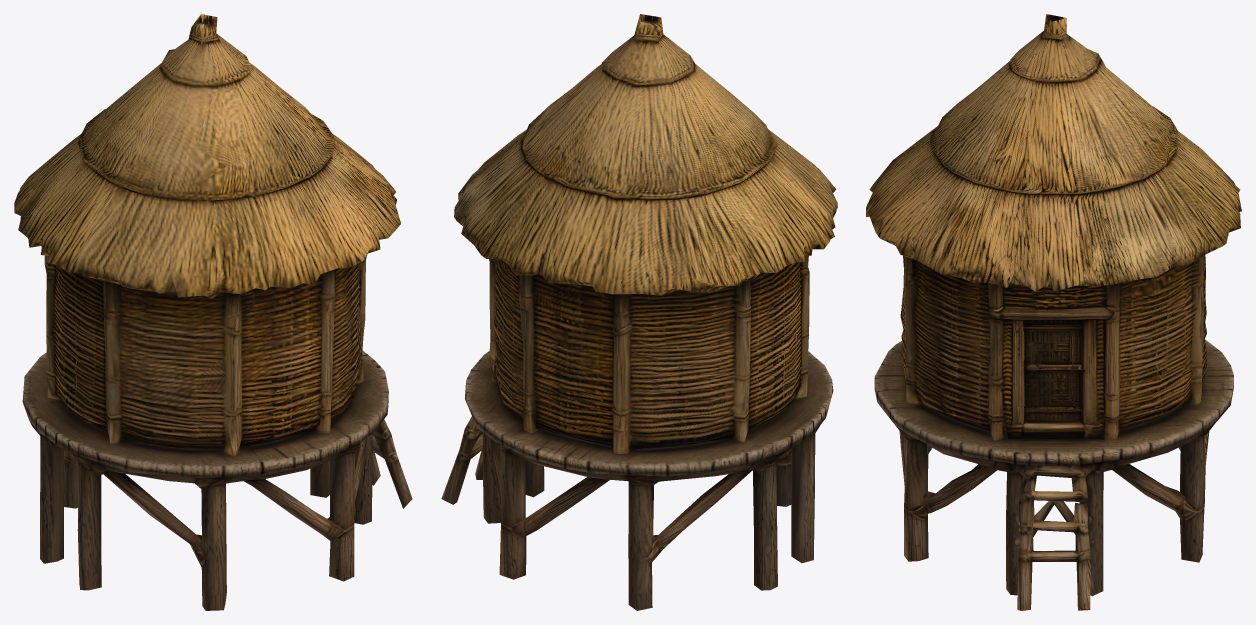
The model's file is granary.glb.
The picture shows the model from 3 angles, left to right: view 1: azimuth 30°, elevation 25°; view 2: azimuth 150°, elevation 25°; view 3: azimuth 270°, elevation 25°; orthographic projection. The views are drawn at different scales.
Visible parts, largest first — view 1: tripo_node_e45cfc1d-e038-4ddc-a9d8-6c3af499839d; view 2: tripo_node_e45cfc1d-e038-4ddc-a9d8-6c3af499839d; view 3: tripo_node_e45cfc1d-e038-4ddc-a9d8-6c3af499839d.
Part boxes in pixels (box(x1,y1,x2,y2)): tripo_node_e45cfc1d-e038-4ddc-a9d8-6c3af499839d: box(14, 14, 412, 610); tripo_node_e45cfc1d-e038-4ddc-a9d8-6c3af499839d: box(441, 14, 837, 610); tripo_node_e45cfc1d-e038-4ddc-a9d8-6c3af499839d: box(866, 14, 1241, 610).
Bounding box in the file's own units: 0.7135 × 0.9973 × 0.6662.
Materials: 1 (1 with a texture image).
